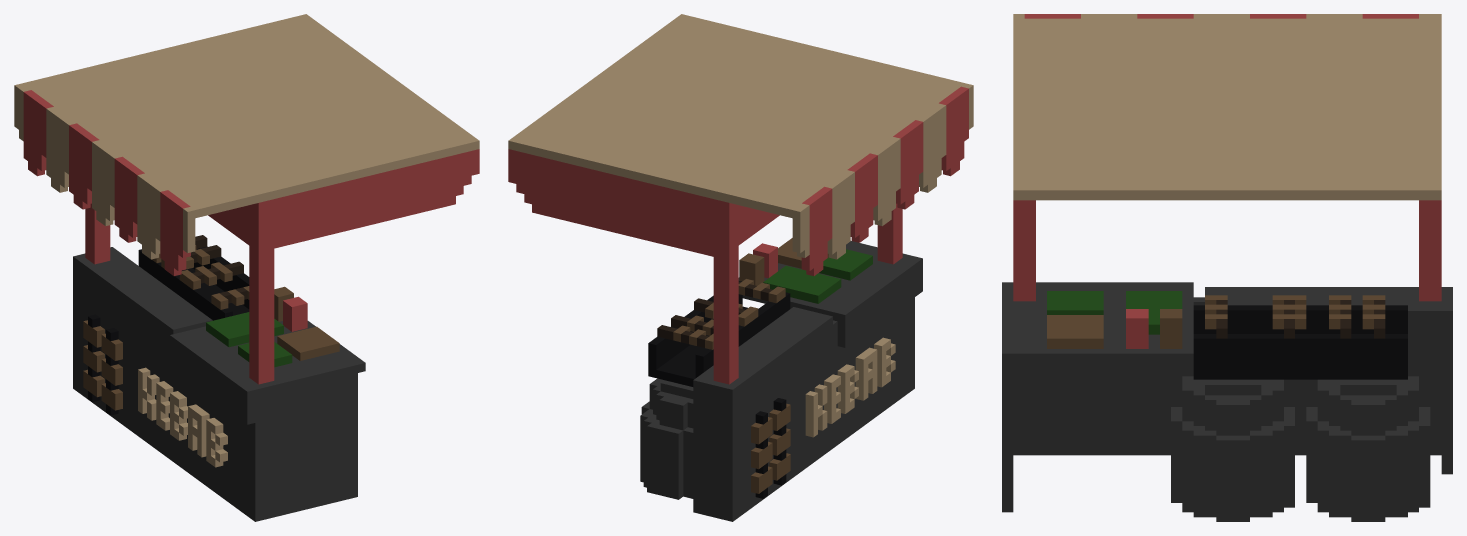
File: shop-2.obj
3 views of the same model, side by side, from view 1: azimuth 30°, elevation 25°; view 2: azimuth 150°, elevation 25°; view 3: azimuth 270°, elevation 25° (orthographic). The views are drawn at different scales.
Size of the model in its own units: 3.7 by 3.9 by 4.
1 material, 1 textured.
